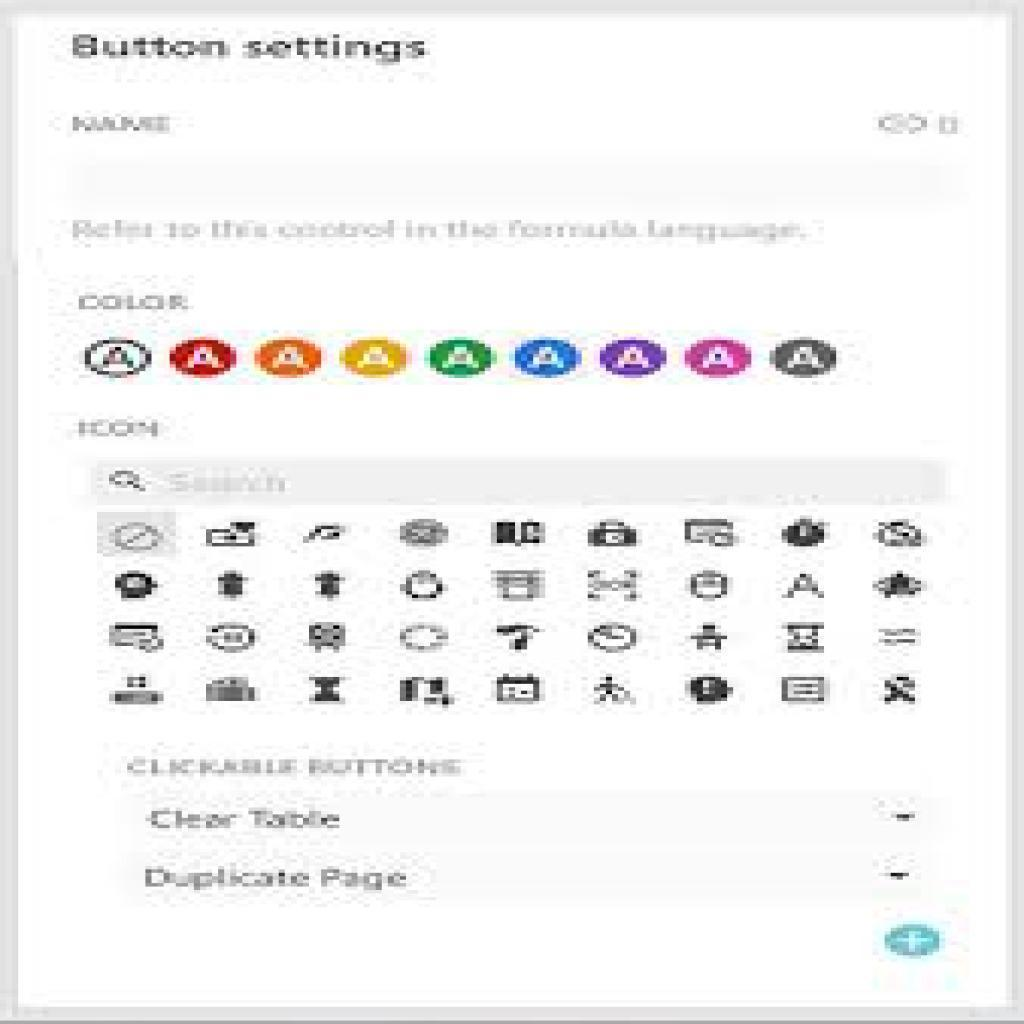dropdown: (136, 851, 937, 899), (136, 799, 935, 842)
icon: (108, 614, 168, 657), (587, 564, 643, 606), (488, 566, 548, 604), (204, 515, 259, 555), (679, 515, 740, 551), (107, 675, 166, 712), (488, 517, 551, 551), (206, 671, 265, 707), (873, 516, 929, 553), (203, 618, 256, 657), (397, 516, 454, 552), (589, 674, 643, 712), (398, 675, 458, 709), (775, 671, 832, 706), (686, 668, 737, 707), (779, 619, 831, 657), (779, 515, 832, 552), (587, 517, 643, 551), (494, 671, 545, 707), (398, 620, 450, 655), (494, 619, 541, 657), (302, 517, 354, 551), (587, 620, 639, 654), (308, 670, 351, 709), (302, 617, 346, 655), (873, 571, 926, 601), (688, 571, 731, 607), (780, 569, 825, 603), (108, 465, 150, 501), (399, 571, 448, 601), (215, 568, 254, 605), (687, 622, 731, 654), (875, 620, 920, 651), (878, 669, 915, 706), (117, 571, 161, 601), (314, 567, 347, 602)
input: (93, 461, 950, 509)
